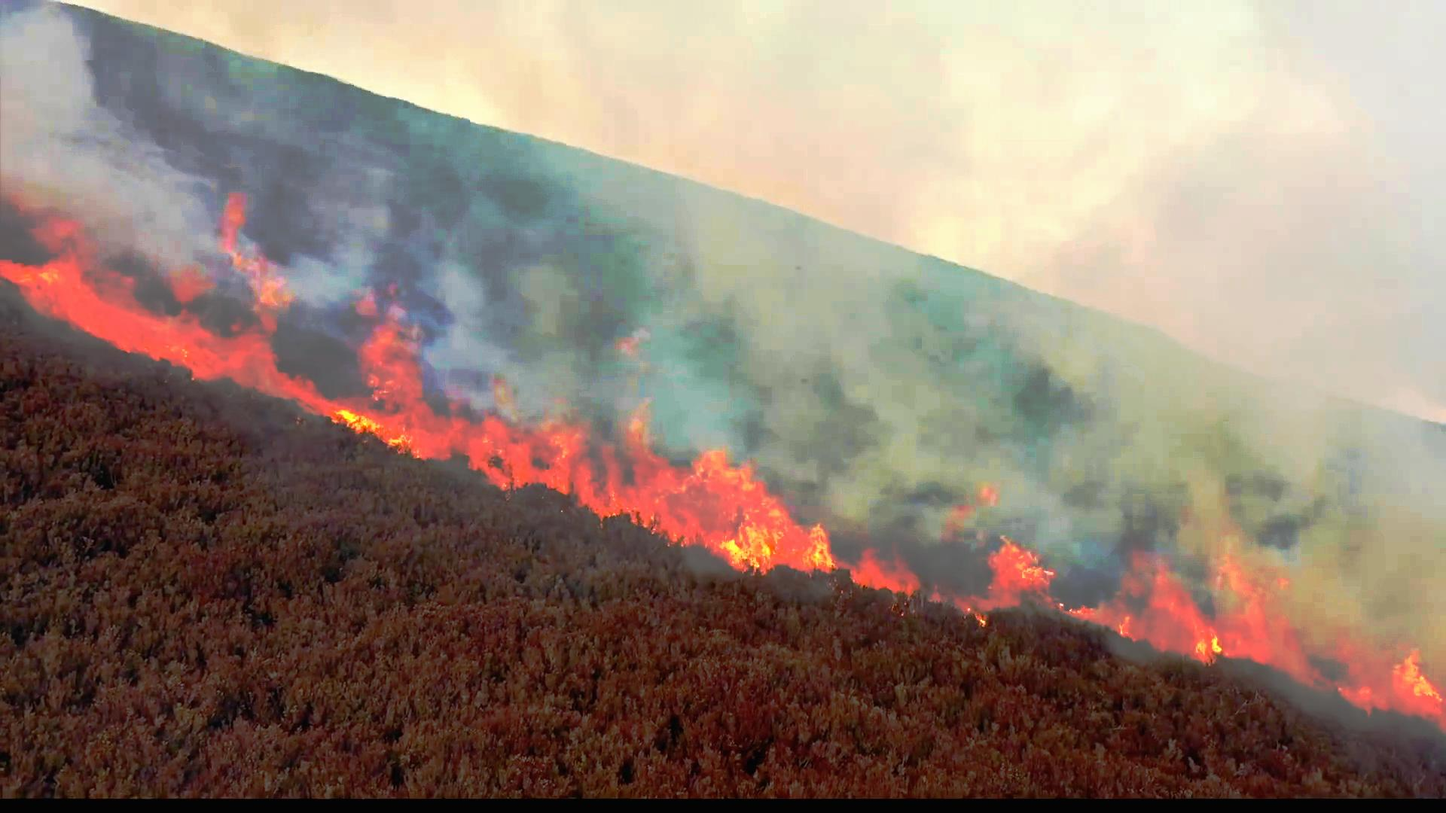fire: (350, 277, 572, 503), (630, 401, 836, 580), (1, 249, 231, 389)
smoke: (1058, 147, 1446, 539), (0, 0, 215, 238)
